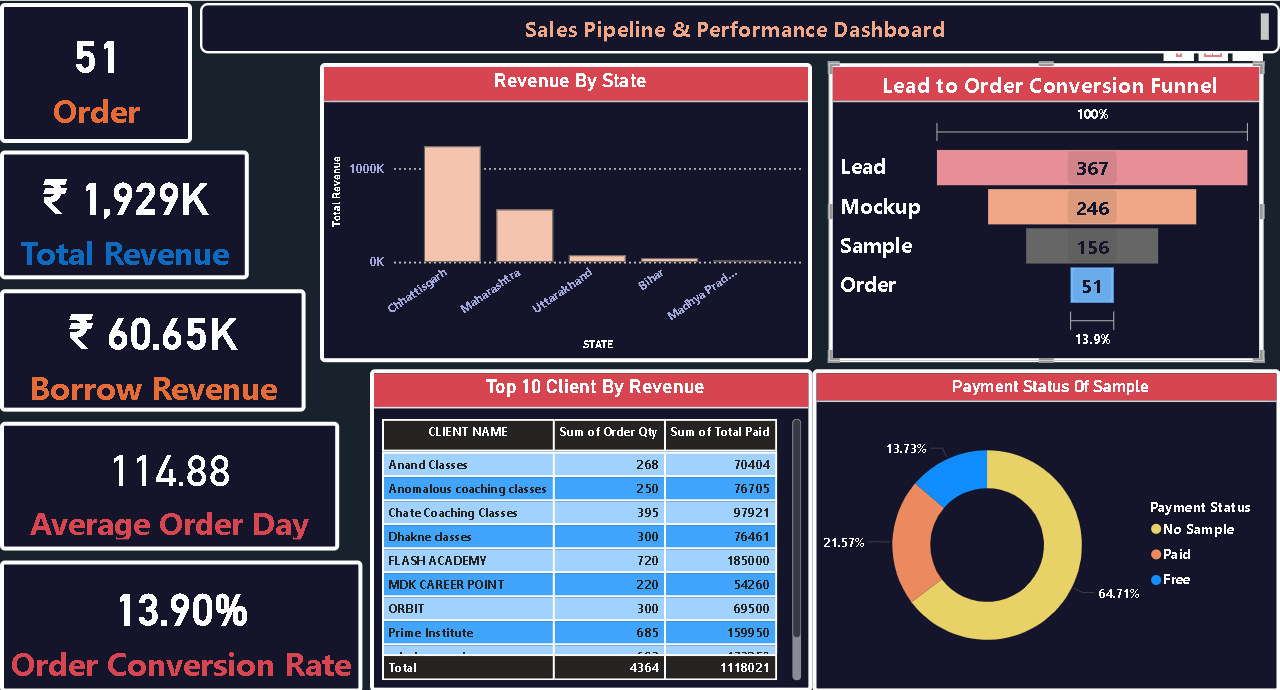

The dashboard page shown, as its layout file describes it:
{"tool":"powerbi","page":{"name":"Page 3","canvas":[1280,720],"ordinal":2},"visuals":[{"type":"card","fields":{"Values":["Order.Total Revenue"]},"box":[0,177.8,248.9,128.9],"z":0},{"type":"card","fields":{"Values":["Order.Borrow Revenue"]},"box":[0,316.7,305.6,122.2],"z":1},{"type":"card","fields":{"Values":["Order.Total Order"]},"box":[0,30,192.2,140],"z":2},{"type":"card","fields":{"Values":["Order.Order Conversion Rate"]},"box":[0,587.8,362.2,132.2],"z":3},{"type":"card","fields":{"Values":["Order.Average Order"]},"box":[0,448.9,338.9,128.9],"z":4},{"type":"funnel","title":"Lead to Order Conversion Funnel","fields":{"Y":["Order.Total Lead","Order.Mockup","Order.Sample","Order.Total Order"]},"box":[828.9,90,434.4,298.9],"z":5},{"type":"columnChart","title":"Revenue By State","fields":{"Category":["Order.STATE"],"Y":["Sum(Order.Total Paid)"]},"box":[320,90,492.2,298.9],"z":6},{"type":"tableEx","title":"Top 10 Client By Revenue","fields":{"Values":["Order.CLIENT NAME","Sum(Order.Order Qty)","Sum(Order.Total Paid)"]},"box":[370,396.7,442.2,322.2],"z":7},{"type":"donutChart","title":"Payment Status Of Sample","fields":{"Y":["CountNonNull(Order.Payment Status)"],"Category":["Order.Payment Status"]},"box":[812.2,396.7,467.8,323.3],"z":8},{"type":"textbox","box":[200,30,1080,50],"z":9}]}

Visuals, with their boxes in screenshot pixels (x1, y1, x2, y2):
card - Order.Total Revenue: box(10, 148, 254, 274)
card - Order.Borrow Revenue: box(10, 284, 309, 403)
card - Order.Total Order: box(10, 3, 198, 140)
card - Order.Order Conversion Rate: box(10, 549, 365, 679)
card - Order.Average Order: box(10, 413, 342, 539)
"Lead to Order Conversion Funnel" funnel: box(822, 62, 1248, 354)
"Revenue By State" columnChart: box(324, 62, 806, 354)
"Top 10 Client By Revenue" tableEx: box(373, 362, 806, 678)
"Payment Status Of Sample" donutChart: box(806, 362, 1264, 679)
textbox: box(206, 3, 1264, 52)
